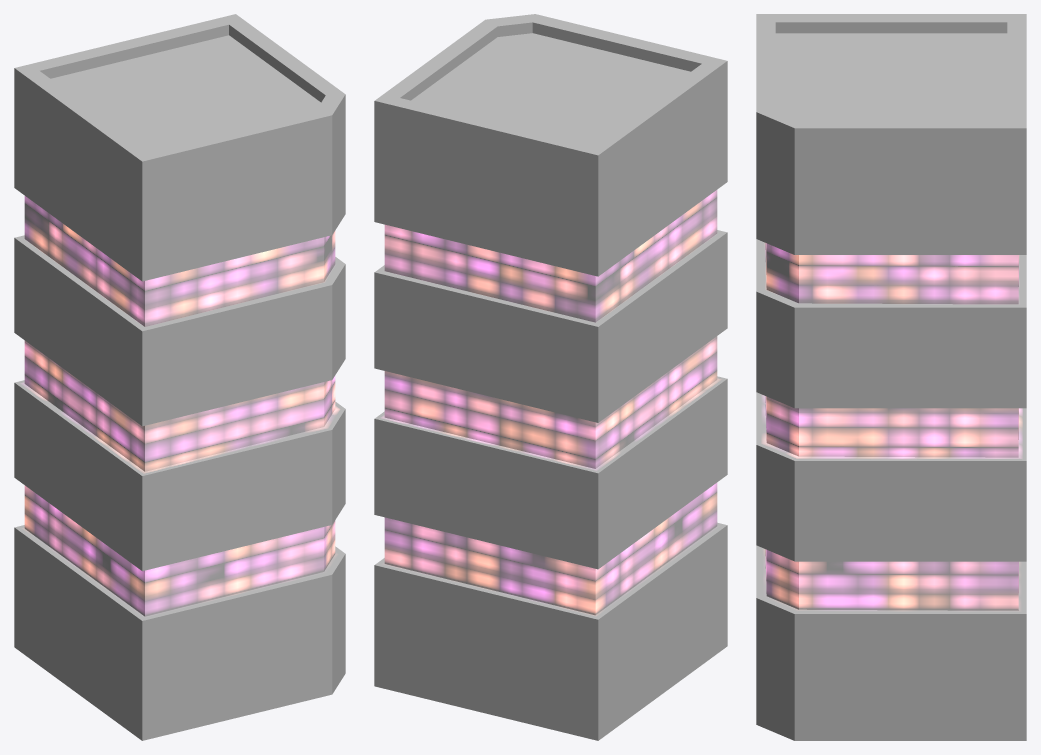
Rendered from BuildingBase.fbx.
The picture shows the model from 3 angles, left to right: view 1: azimuth 30°, elevation 25°; view 2: azimuth 150°, elevation 25°; view 3: azimuth 270°, elevation 25°; orthographic projection. The views are drawn at different scales.
Parts seen in each view (by area): view 1: BuildingBase; view 2: BuildingBase; view 3: BuildingBase.
Boxes of the visible parts, <box> form: BuildingBase: <box>14,14,345,740</box>; BuildingBase: <box>374,14,727,740</box>; BuildingBase: <box>756,14,1026,740</box>.
Bounding box in the file's own units: 200 × 500 × 200.
